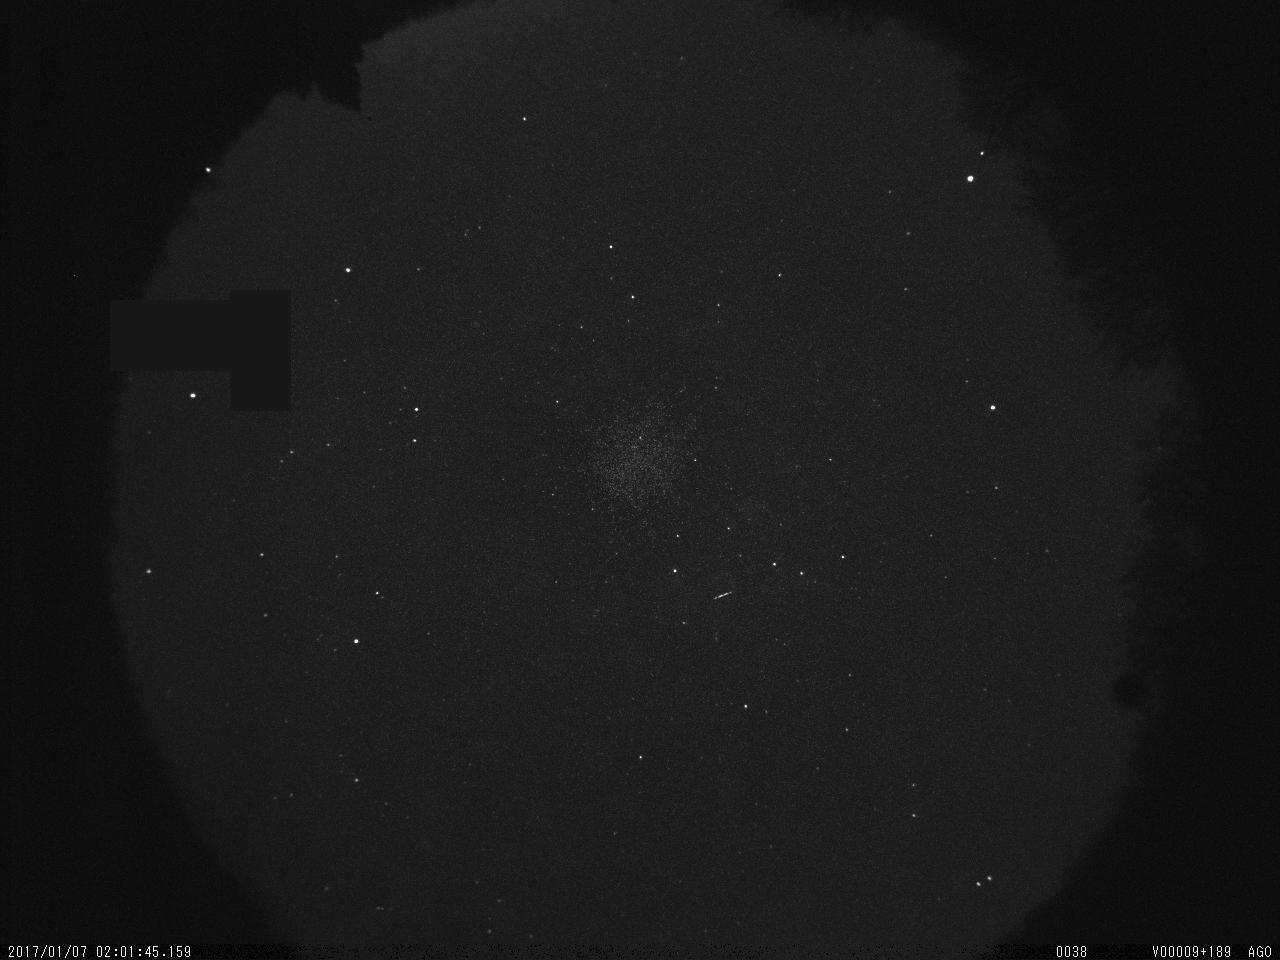Meteor: (710, 588, 733, 600)
